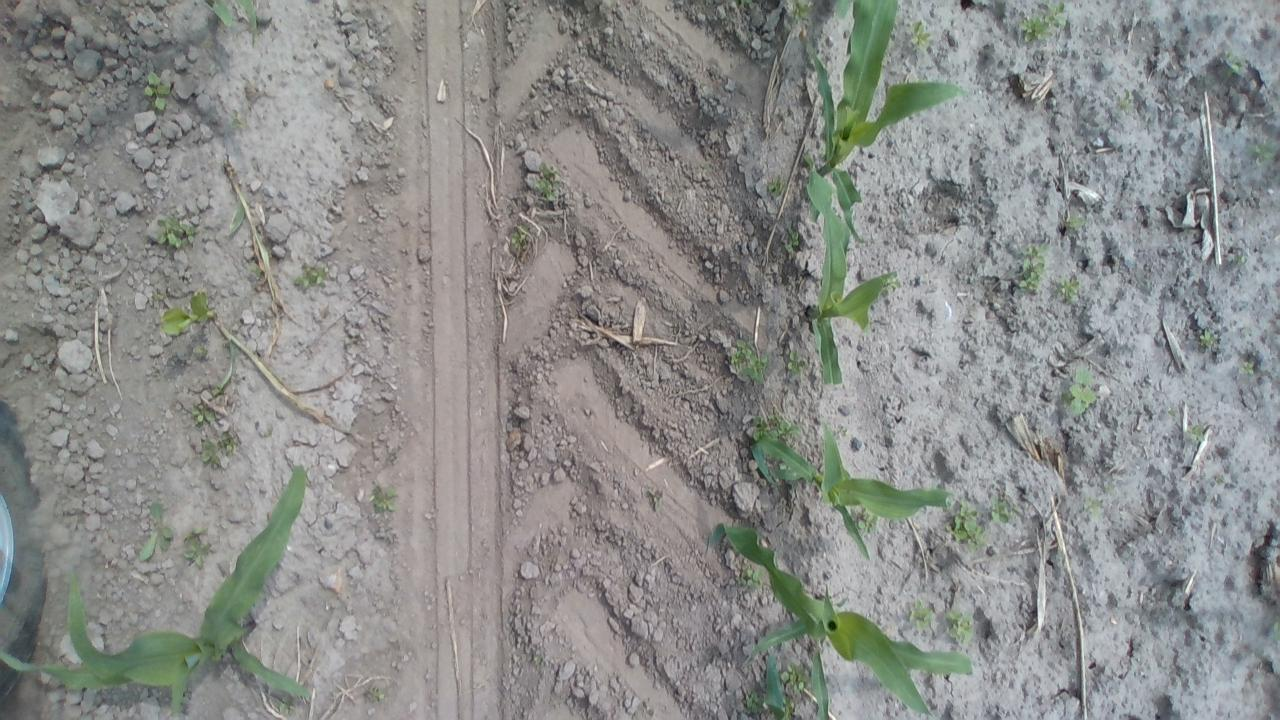Maize: (0, 461, 314, 720), (700, 514, 988, 720), (799, 0, 972, 246), (742, 416, 952, 562), (792, 154, 902, 391), (768, 651, 828, 720), (207, 0, 274, 53)
Weeds: (160, 288, 220, 337), (940, 492, 987, 550), (138, 498, 172, 564), (726, 338, 771, 386), (1020, 0, 1069, 44), (1062, 366, 1100, 419), (1016, 236, 1049, 296), (196, 429, 242, 470), (154, 212, 198, 251), (982, 490, 1025, 528), (182, 527, 216, 573), (747, 412, 798, 442), (944, 608, 981, 644), (901, 595, 938, 630), (534, 161, 564, 203), (143, 71, 173, 113), (186, 399, 234, 425), (780, 662, 816, 694), (732, 562, 766, 592), (368, 480, 398, 514), (296, 260, 328, 290), (909, 18, 932, 54), (742, 688, 771, 716), (1054, 276, 1083, 304), (1222, 52, 1247, 82), (1054, 209, 1087, 231), (1252, 135, 1275, 166), (853, 506, 878, 534), (508, 224, 532, 252), (1184, 415, 1206, 444), (268, 690, 294, 714), (767, 174, 790, 200), (787, 0, 812, 23), (788, 352, 808, 380), (774, 696, 798, 719), (361, 684, 385, 706), (1114, 88, 1135, 112), (1196, 324, 1217, 348), (782, 222, 798, 252), (1082, 497, 1104, 517), (148, 286, 168, 304), (1230, 247, 1248, 267), (188, 342, 210, 358), (530, 650, 546, 669), (1240, 357, 1257, 374), (1271, 617, 1280, 644), (1102, 483, 1117, 496)
